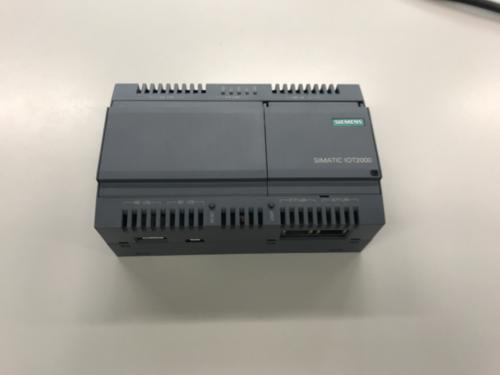device: (94, 84, 387, 258)
